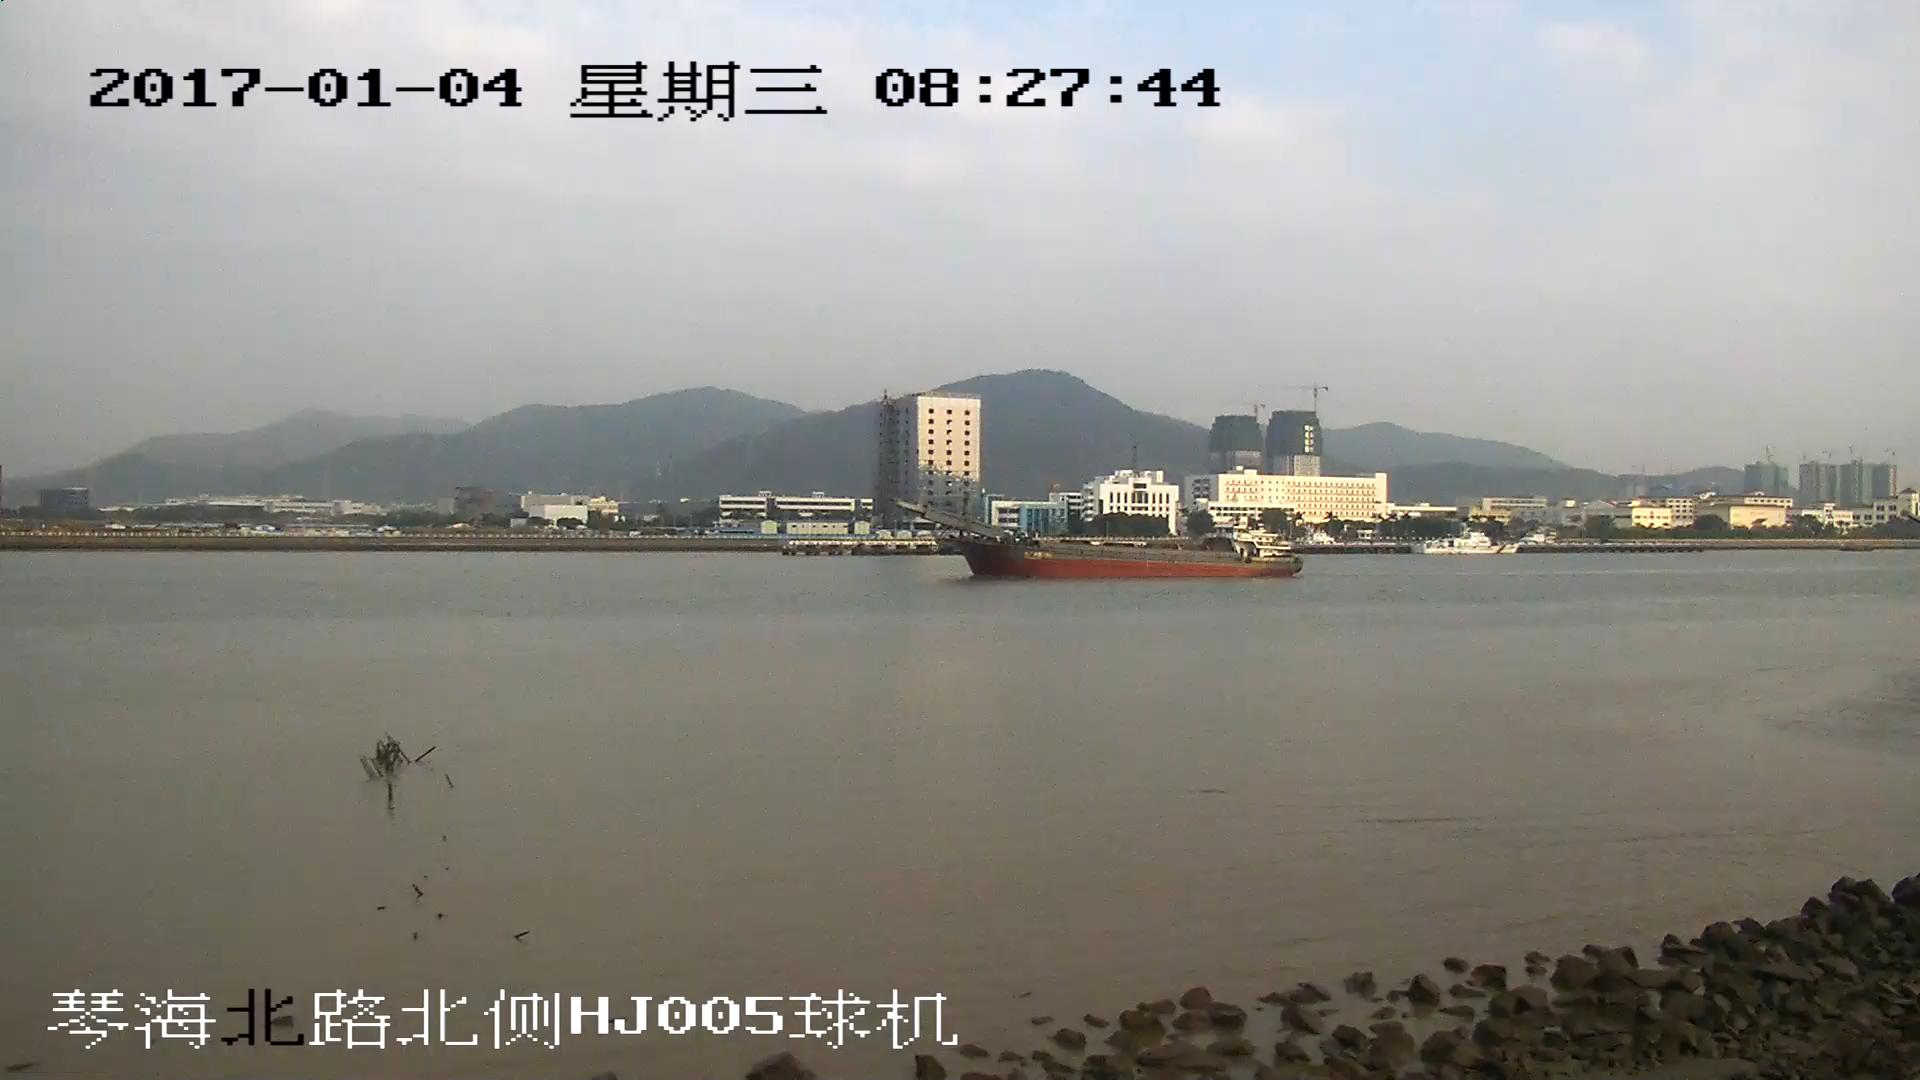bulk cargo carrier: (901, 498, 1301, 580)
